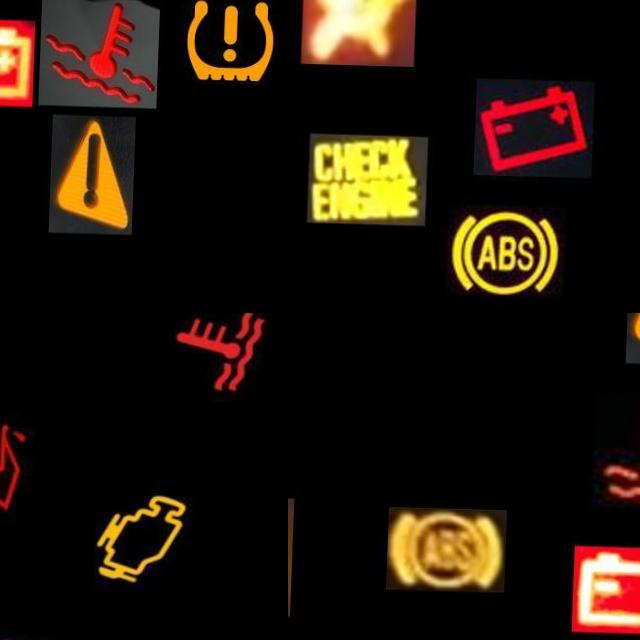Central Warning lamp: (51, 112, 137, 232)
Engine cooling system: (39, 0, 160, 105), (595, 389, 640, 507)
